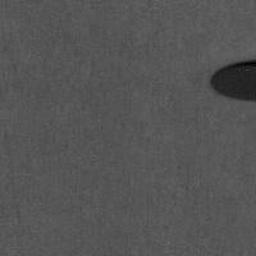Punching: (210, 60, 256, 102)
